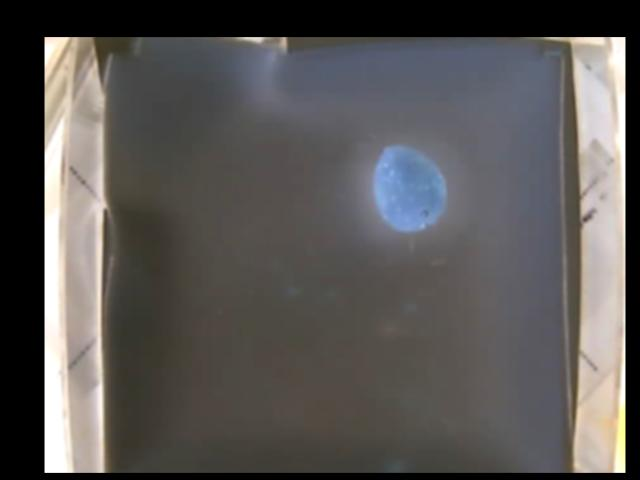Potato: (373, 143, 445, 231)
